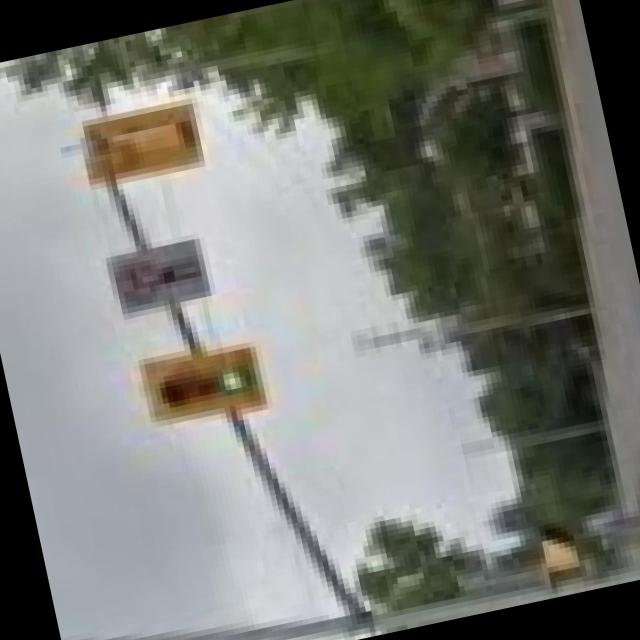green-lights: (208, 350, 258, 410)
